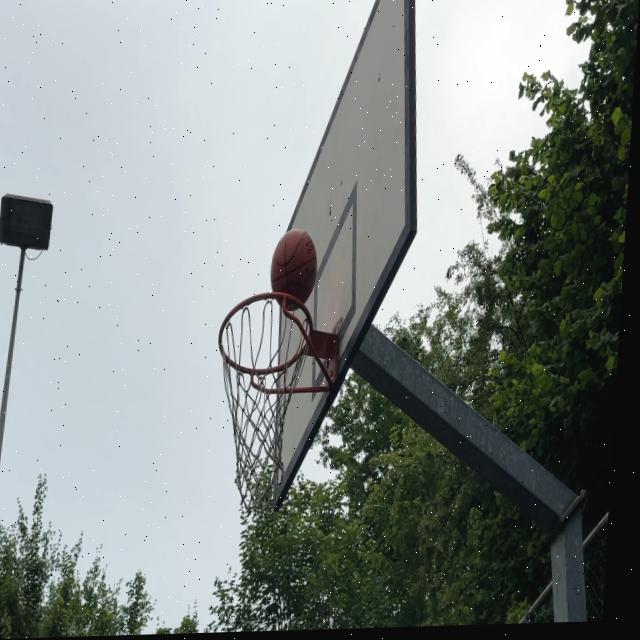rebound_hit: (270, 228, 319, 311)
